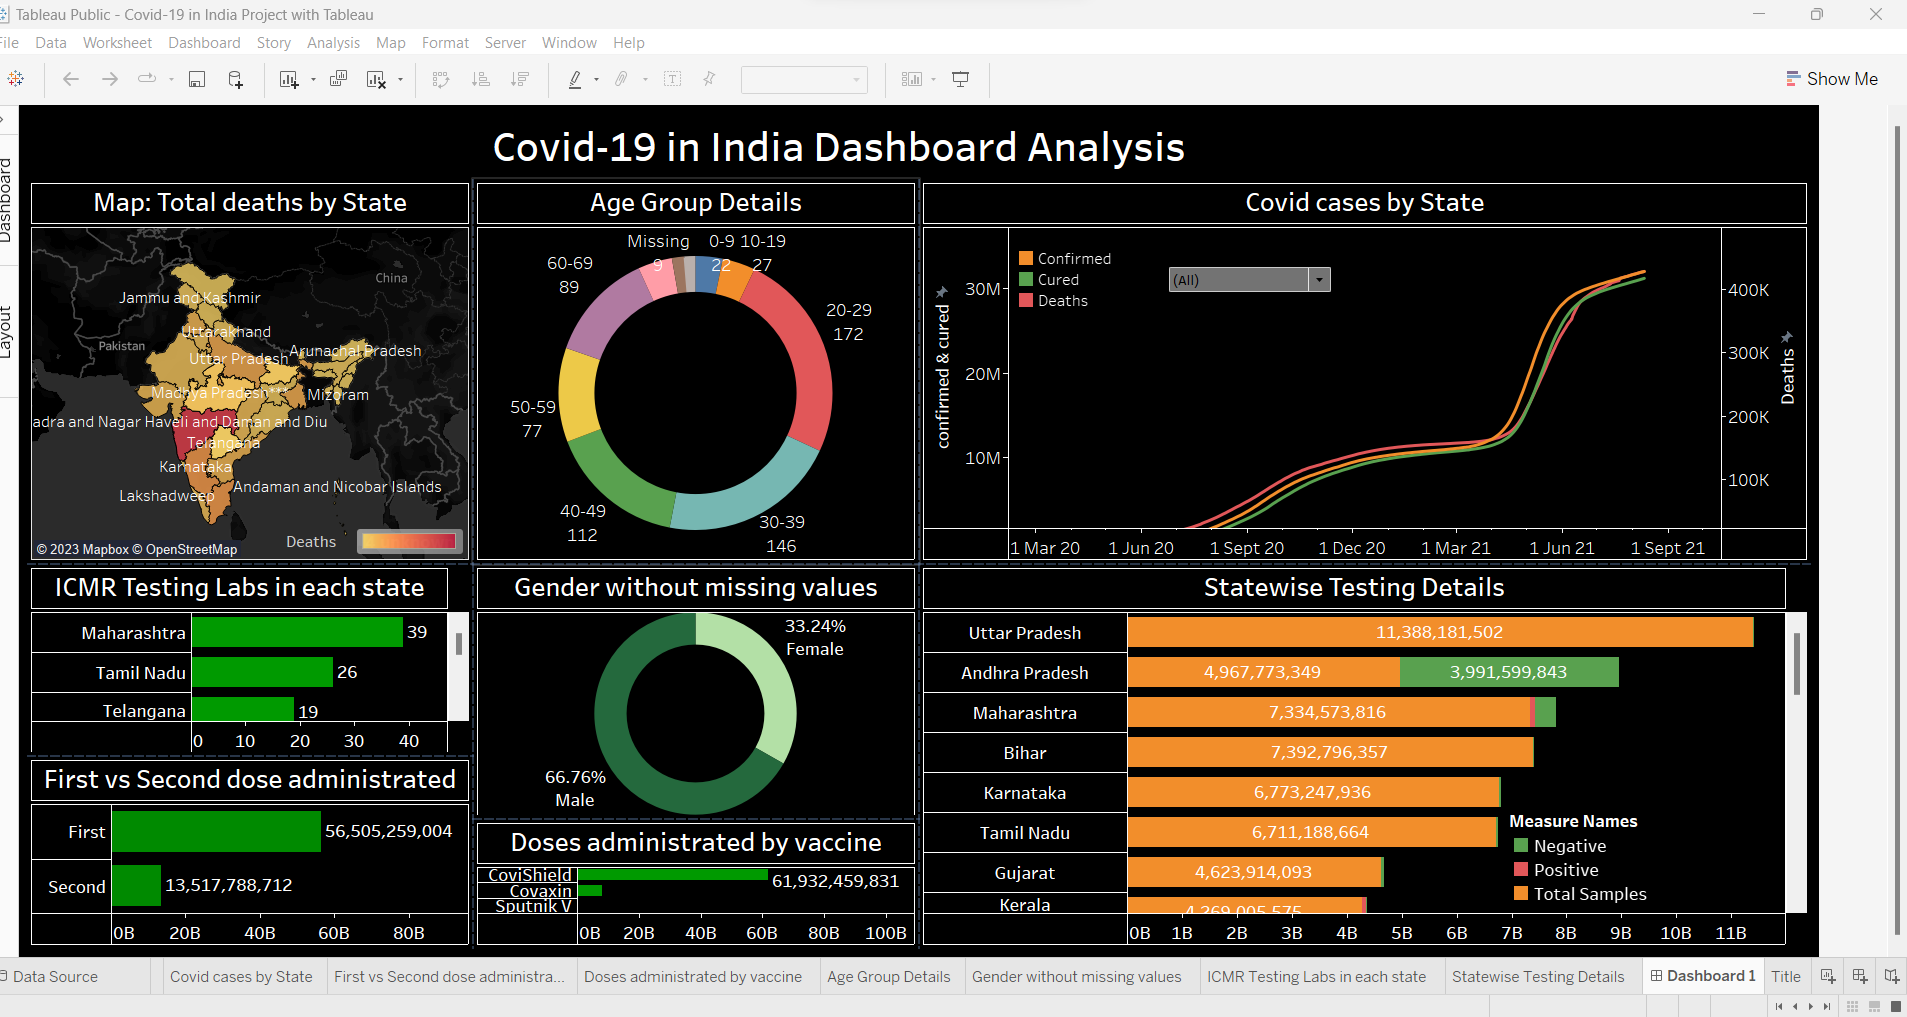

The dashboard page shown, as its layout file describes it:
{"tool":"tableau","page":{"name":"Dashboard 1","canvas":[1000,1000],"units":"permille","ordinal":0},"visuals":[{"type":"worksheet","title":"Title","mark":"Automatic","box":[4.4,9.4,991.1,77]},{"type":"worksheet","title":"Map:Total death by State","mark":"Automatic","box":[4.4,86.4,247.8,452.1]},{"type":"worksheet","title":"Age Group Details","mark":"Pie","rows":["Calculation_224898525272207361","Calculation_224898525272240131"],"box":[252.2,86.4,247.8,452.1]},{"type":"worksheet","title":"Covid cases by State","mark":"Automatic","rows":["Deaths"],"cols":["Date"],"box":[500,86.4,495.6,452.1]},{"type":"filter","title":"Covid cases by State","param":"[federated.1mavovy0fwu9lg16xj2q50ych066].[none:State/UnionTerritory:nk]","box":[637.2,158.8,93.3,74.6]},{"type":"legend","title":"Covid cases by State","param":"[federated.1mavovy0fwu9lg16xj2q50ych066].[:Measure Names]","box":[553.9,167.3,77.8,73.4]},{"type":"legend","title":"Map:Total death by State","param":"[federated.1mavovy0fwu9lg16xj2q50ych066].[sum:Deaths:qk]","box":[148.3,498.2,96.7,27.7]},{"type":"worksheet","title":"ICMR Testing Labs in each state","mark":"Automatic","rows":["state"],"cols":["lab"],"box":[4.4,538.5,247.8,226]},{"type":"worksheet","title":"Gender without missing values","mark":"Pie","rows":["Calculation_224898525277192197","Calculation_224898525277237255"],"box":[252.2,538.5,247.8,300.1]},{"type":"worksheet","title":"Statewise Testing Details","mark":"Automatic","rows":["State"],"box":[500,538.5,495.6,452.1]},{"type":"worksheet","title":"First vs Second dose administrated","mark":"Automatic","box":[4.4,764.6,247.8,226]},{"type":"legend","title":"Statewise Testing Details","param":"[federated.163o1mr0fe2l4y19opfn80g8q7vf].[:Measure Names]","box":[827.8,826.7,79.4,113.1]},{"type":"worksheet","title":"Doses administrated by vaccine","mark":"Automatic","box":[252.2,838.6,247.8,152]}]}

Visuals, with their boxes on the dashboard's canvas, which has no fixed pixel size, in thousandths of its width and height (x1, y1, x2, y2). These are canvas units, not pixel positions in the 1907x1017 screenshot, which may show the page scaled, cropped or inside an application window:
"Title" worksheet: BBox(4, 9, 996, 86)
"Map:Total death by State" worksheet: BBox(4, 86, 252, 538)
"Age Group Details" worksheet (Pie marks): BBox(252, 86, 500, 538)
"Covid cases by State" worksheet: BBox(500, 86, 996, 538)
"Covid cases by State" filter: BBox(637, 159, 730, 233)
"Covid cases by State" legend: BBox(554, 167, 632, 241)
"Map:Total death by State" legend: BBox(148, 498, 245, 526)
"ICMR Testing Labs in each state" worksheet: BBox(4, 538, 252, 764)
"Gender without missing values" worksheet (Pie marks): BBox(252, 538, 500, 839)
"Statewise Testing Details" worksheet: BBox(500, 538, 996, 991)
"First vs Second dose administrated" worksheet: BBox(4, 765, 252, 991)
"Statewise Testing Details" legend: BBox(828, 827, 907, 940)
"Doses administrated by vaccine" worksheet: BBox(252, 839, 500, 991)
